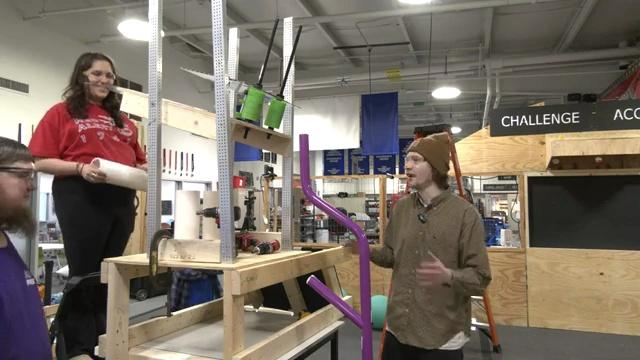CORAL: (89, 156, 148, 192), (175, 190, 200, 239)
